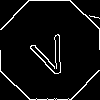V: (25, 25, 74, 80)
